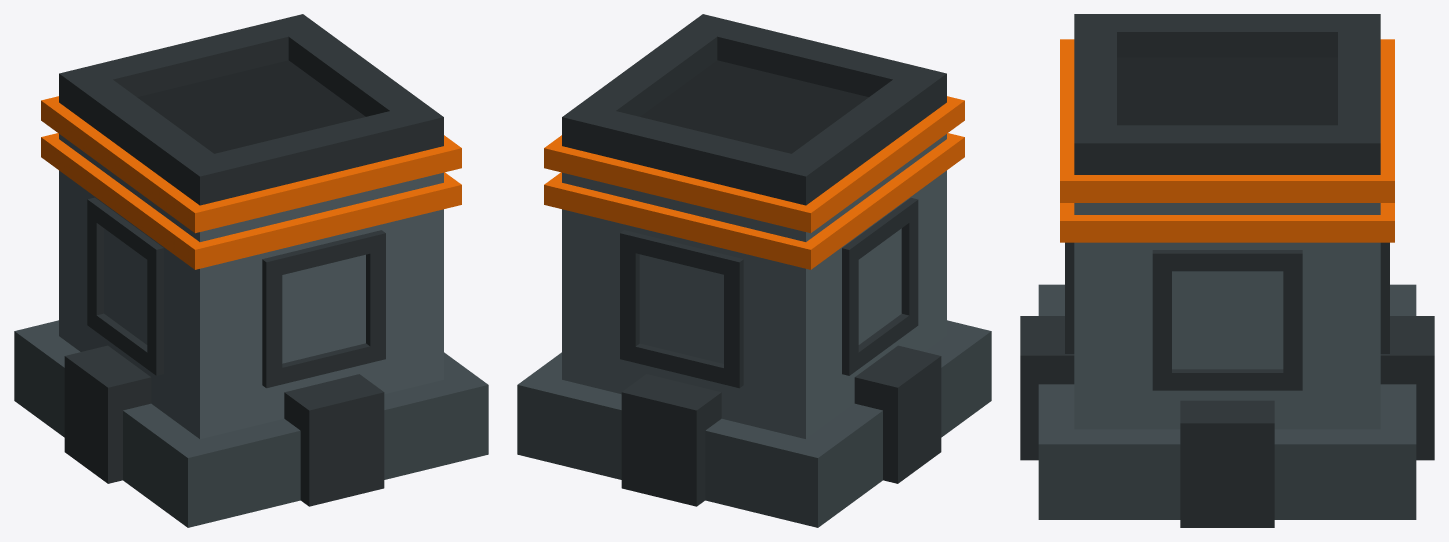
The model's file is Torch 01.FBX.
3 views of the same model, side by side, from view 1: azimuth 30°, elevation 25°; view 2: azimuth 150°, elevation 25°; view 3: azimuth 270°, elevation 25° (orthographic). The views are drawn at different scales.
Parts seen in each view (by area): view 1: Torch 01; view 2: Torch 01; view 3: Torch 01.
Boxes of the visible parts, x1,y1,x2,y2 form: Torch 01: (14, 14, 488, 527); Torch 01: (517, 14, 991, 527); Torch 01: (1020, 14, 1434, 527).
Size of the model in its own units: 86.89 by 83.62 by 86.89.
